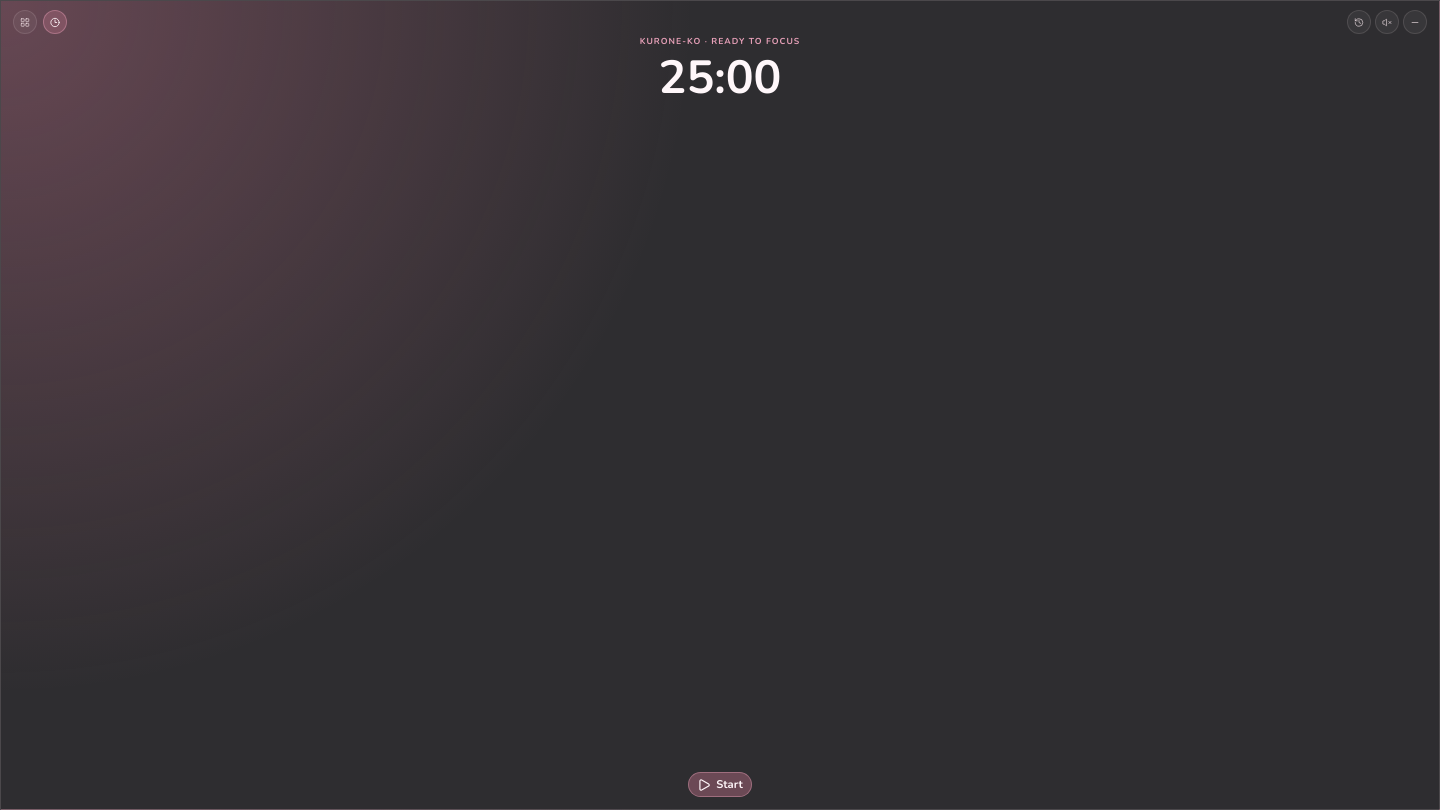
Test: TimerWidget › shows every completed history item with a clear scroll disclosure
Click the button named "show history": x=1359, y=22 [1347, 10, 1371, 34]
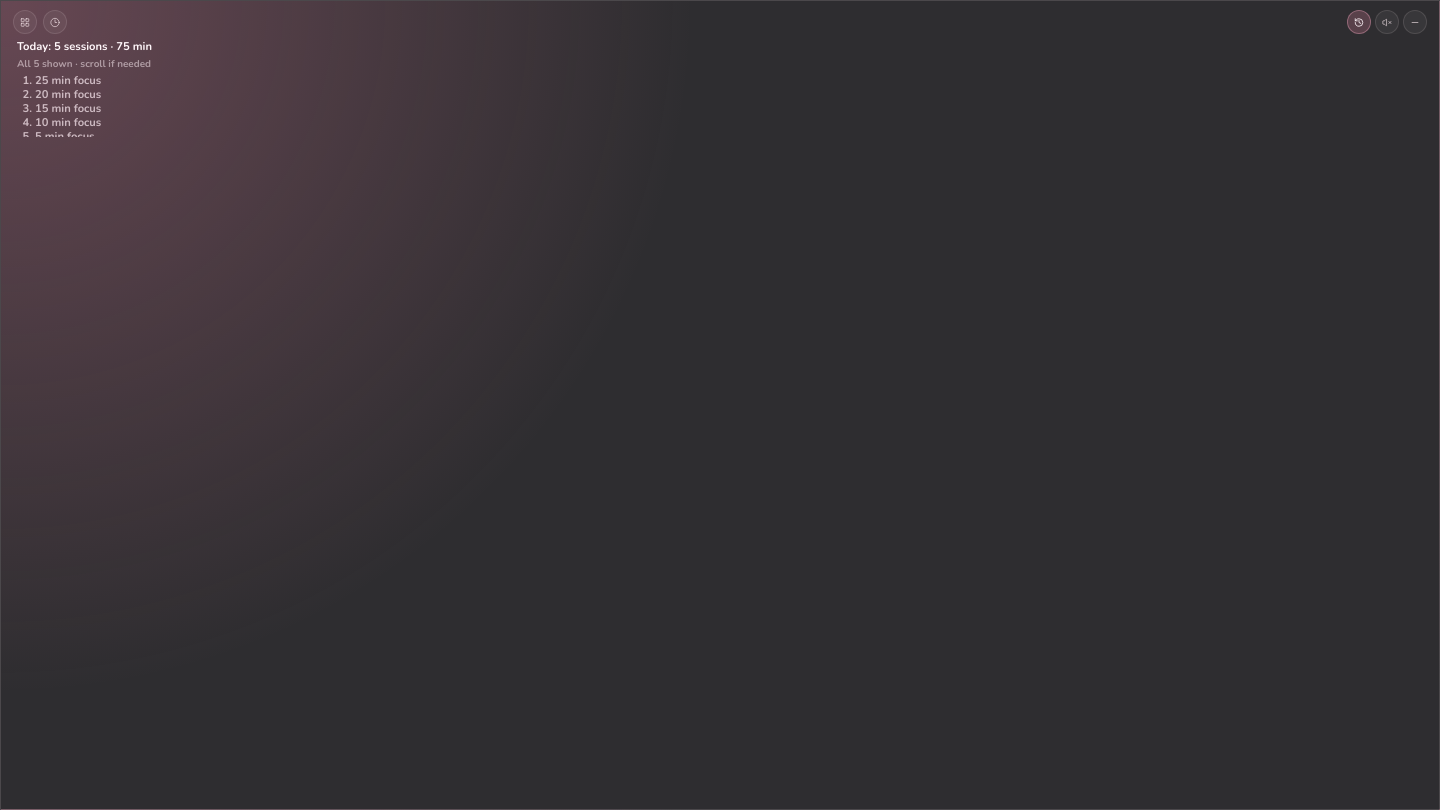
Result: the text "Today: 5 sessions · 75 min" is shown at [17, 39, 152, 54]
Result: the text "All 5 shown · scroll if needed" is shown at [17, 57, 151, 71]
Result: the number of list items is 5
